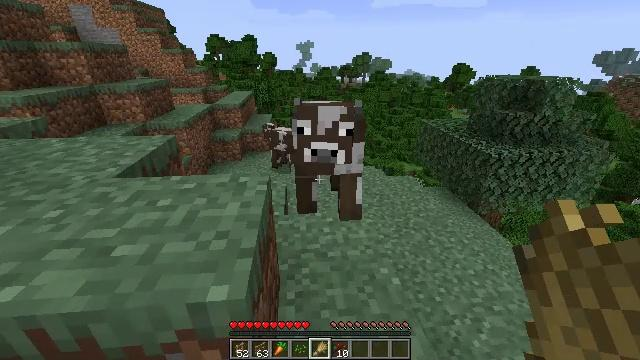cow: (293, 98, 364, 221), (261, 124, 291, 169)
